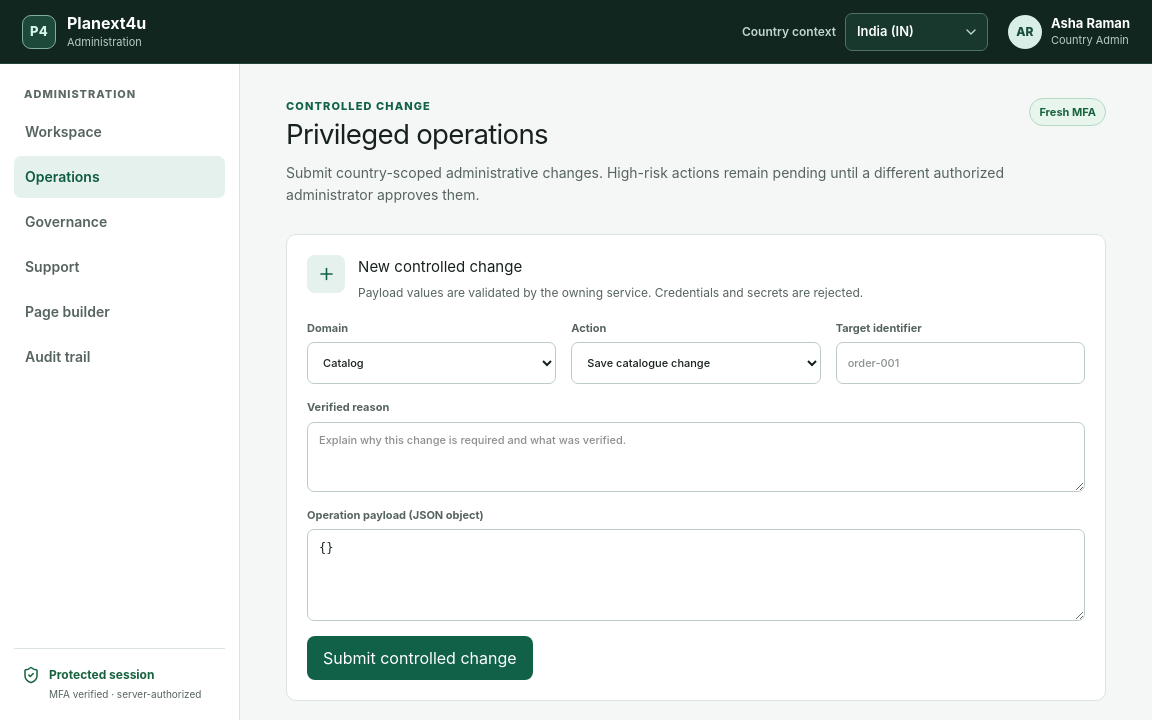
Test: administrator application › submits a controlled operation with CSRF and correlation evidence
In the field labelled "Target identifier": (960, 363) [836,342,1085,384], type "item-synthetic-002"
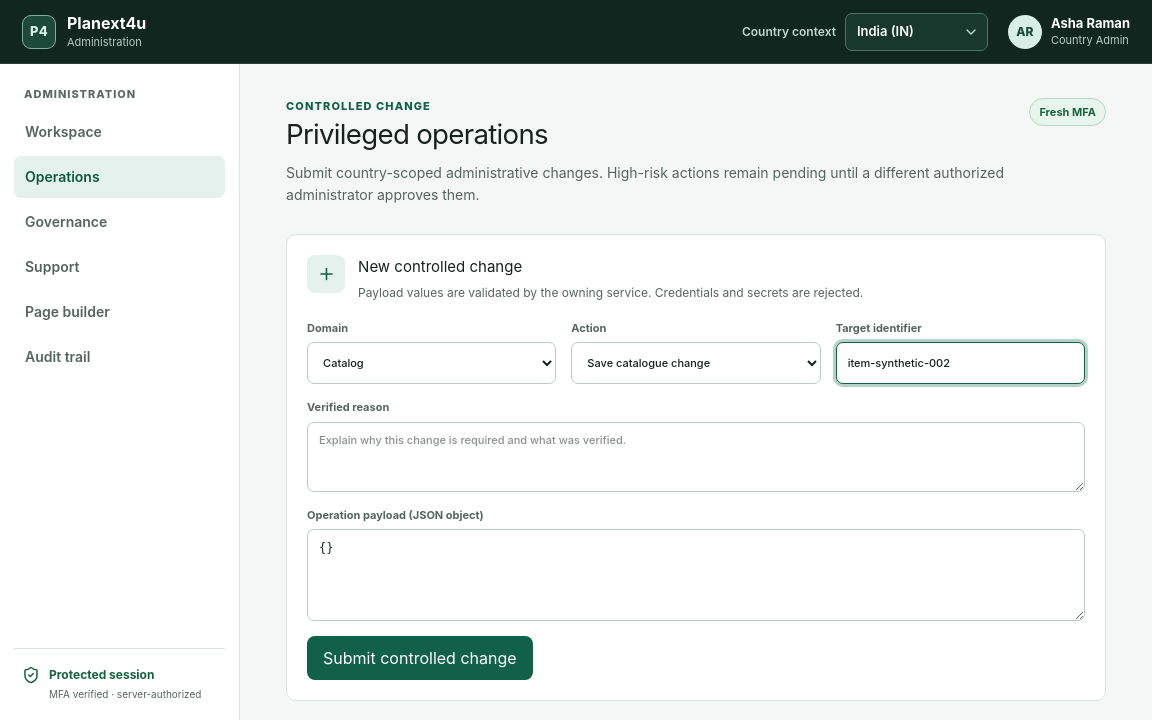
In the text box labelled "Verified reason": (696, 457) [307,422,1085,492], type "Publish verified catalogue information"
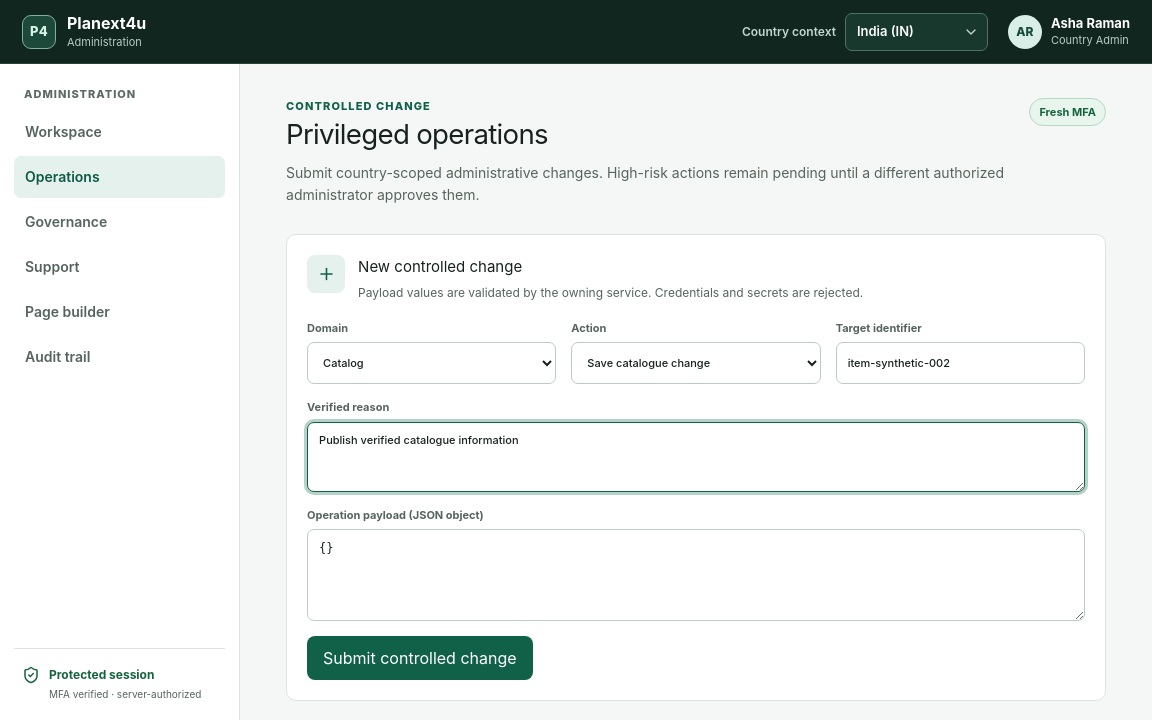
Click the button "Submit controlled change": click(420, 658) [307,636,533,680]
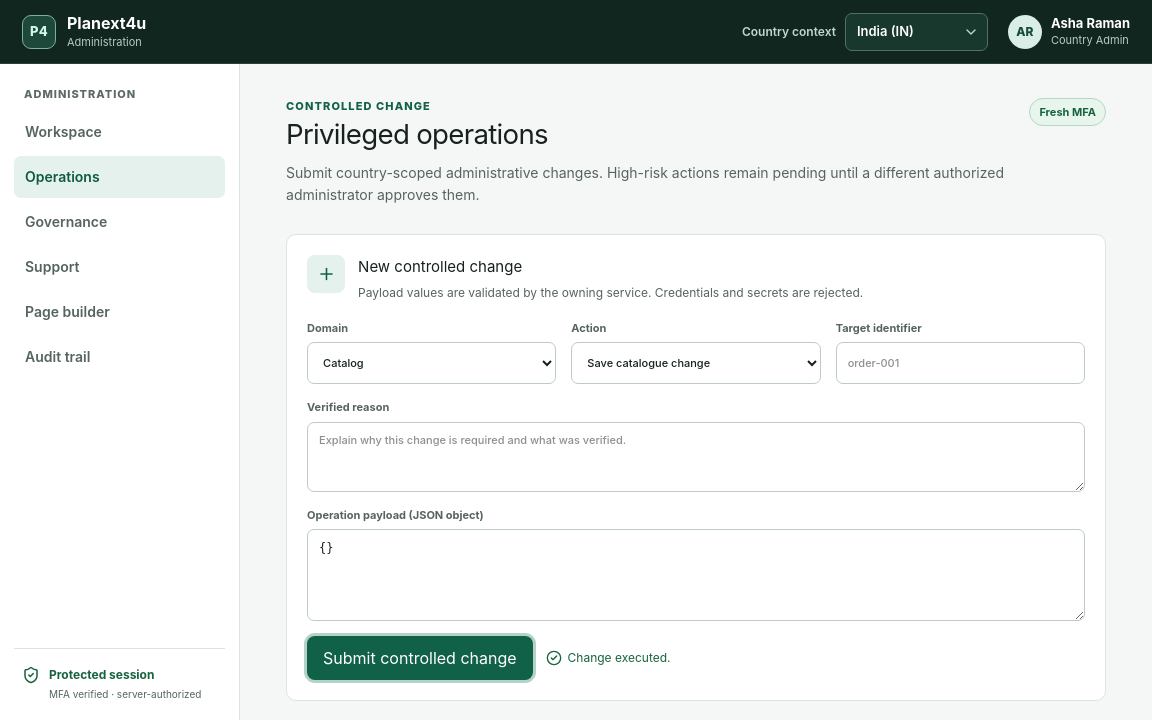
Check: the text "Change executed." is shown, box [546,649,671,667]
